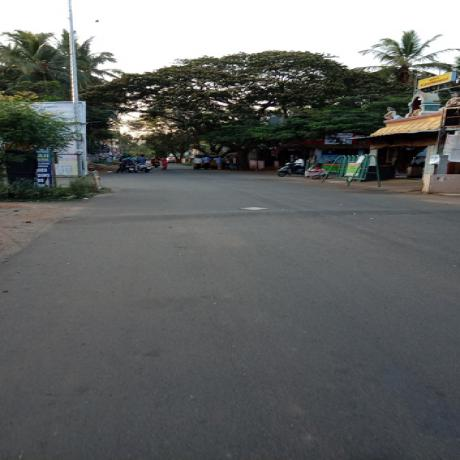Speed Bump: (52, 205, 459, 224)
